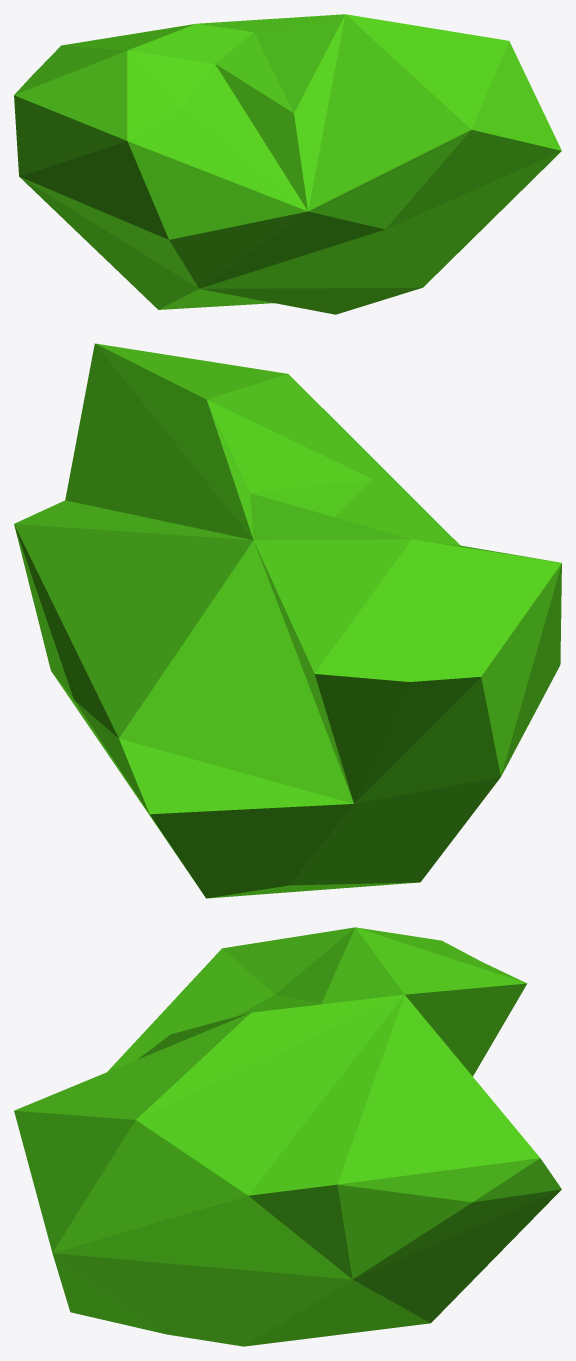
The model's file is kust_1.fbx.
3 renders of one model, top to bottom at view 1: azimuth 30°, elevation 25°; view 2: azimuth 150°, elevation 25°; view 3: azimuth 270°, elevation 25°, orthographic. The views are drawn at different scales.
Parts seen in each view (by area): view 1: Cube.005; view 2: Cube.005; view 3: Cube.005.
Boxes of the visible parts, left/top/right/bottom form: Cube.005: left=14, top=14, right=561, bottom=314; Cube.005: left=14, top=343, right=561, bottom=898; Cube.005: left=14, top=927, right=561, bottom=1346.
Bounding box in the file's own units: 139 × 90.57 × 125.
